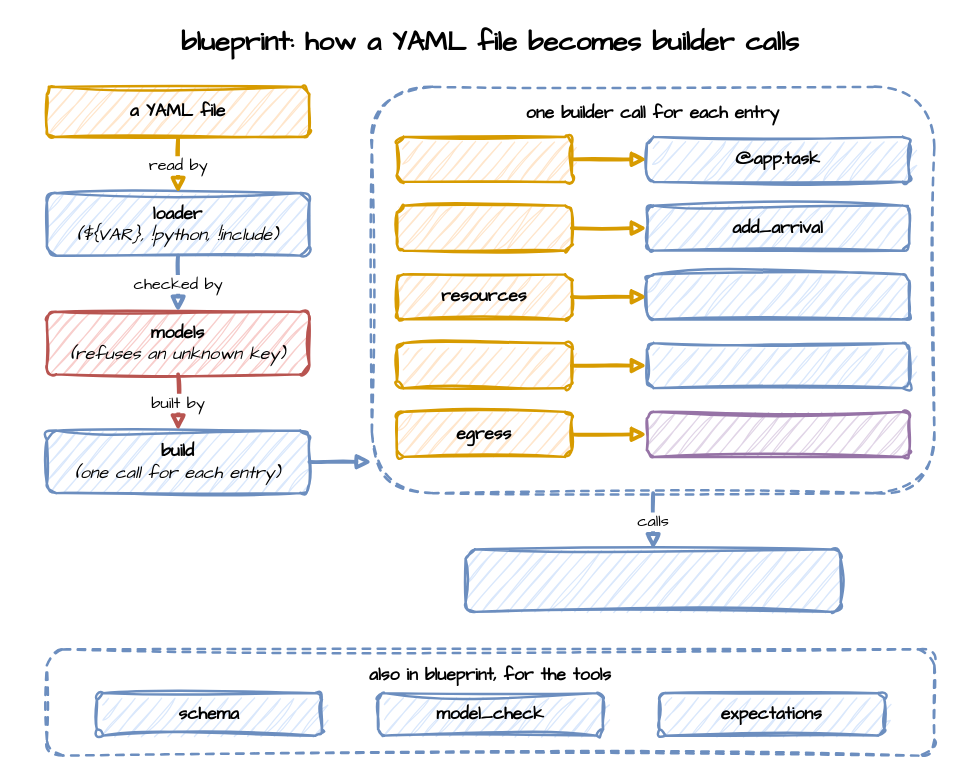
Some shapes in this 980 by 778 pixel diagram are drawn without their labels. Here are the shapes that lost their labels. From the top down, the box of each, then its label:
(395, 135, 572, 182): tasks
(395, 204, 572, 251): arrivals
(645, 272, 910, 320): add_resource
(395, 341, 572, 389): signals
(645, 341, 910, 389): add_signal
(645, 410, 910, 458): add_egress
(464, 548, 841, 612): SimulationContext (builder.context)
